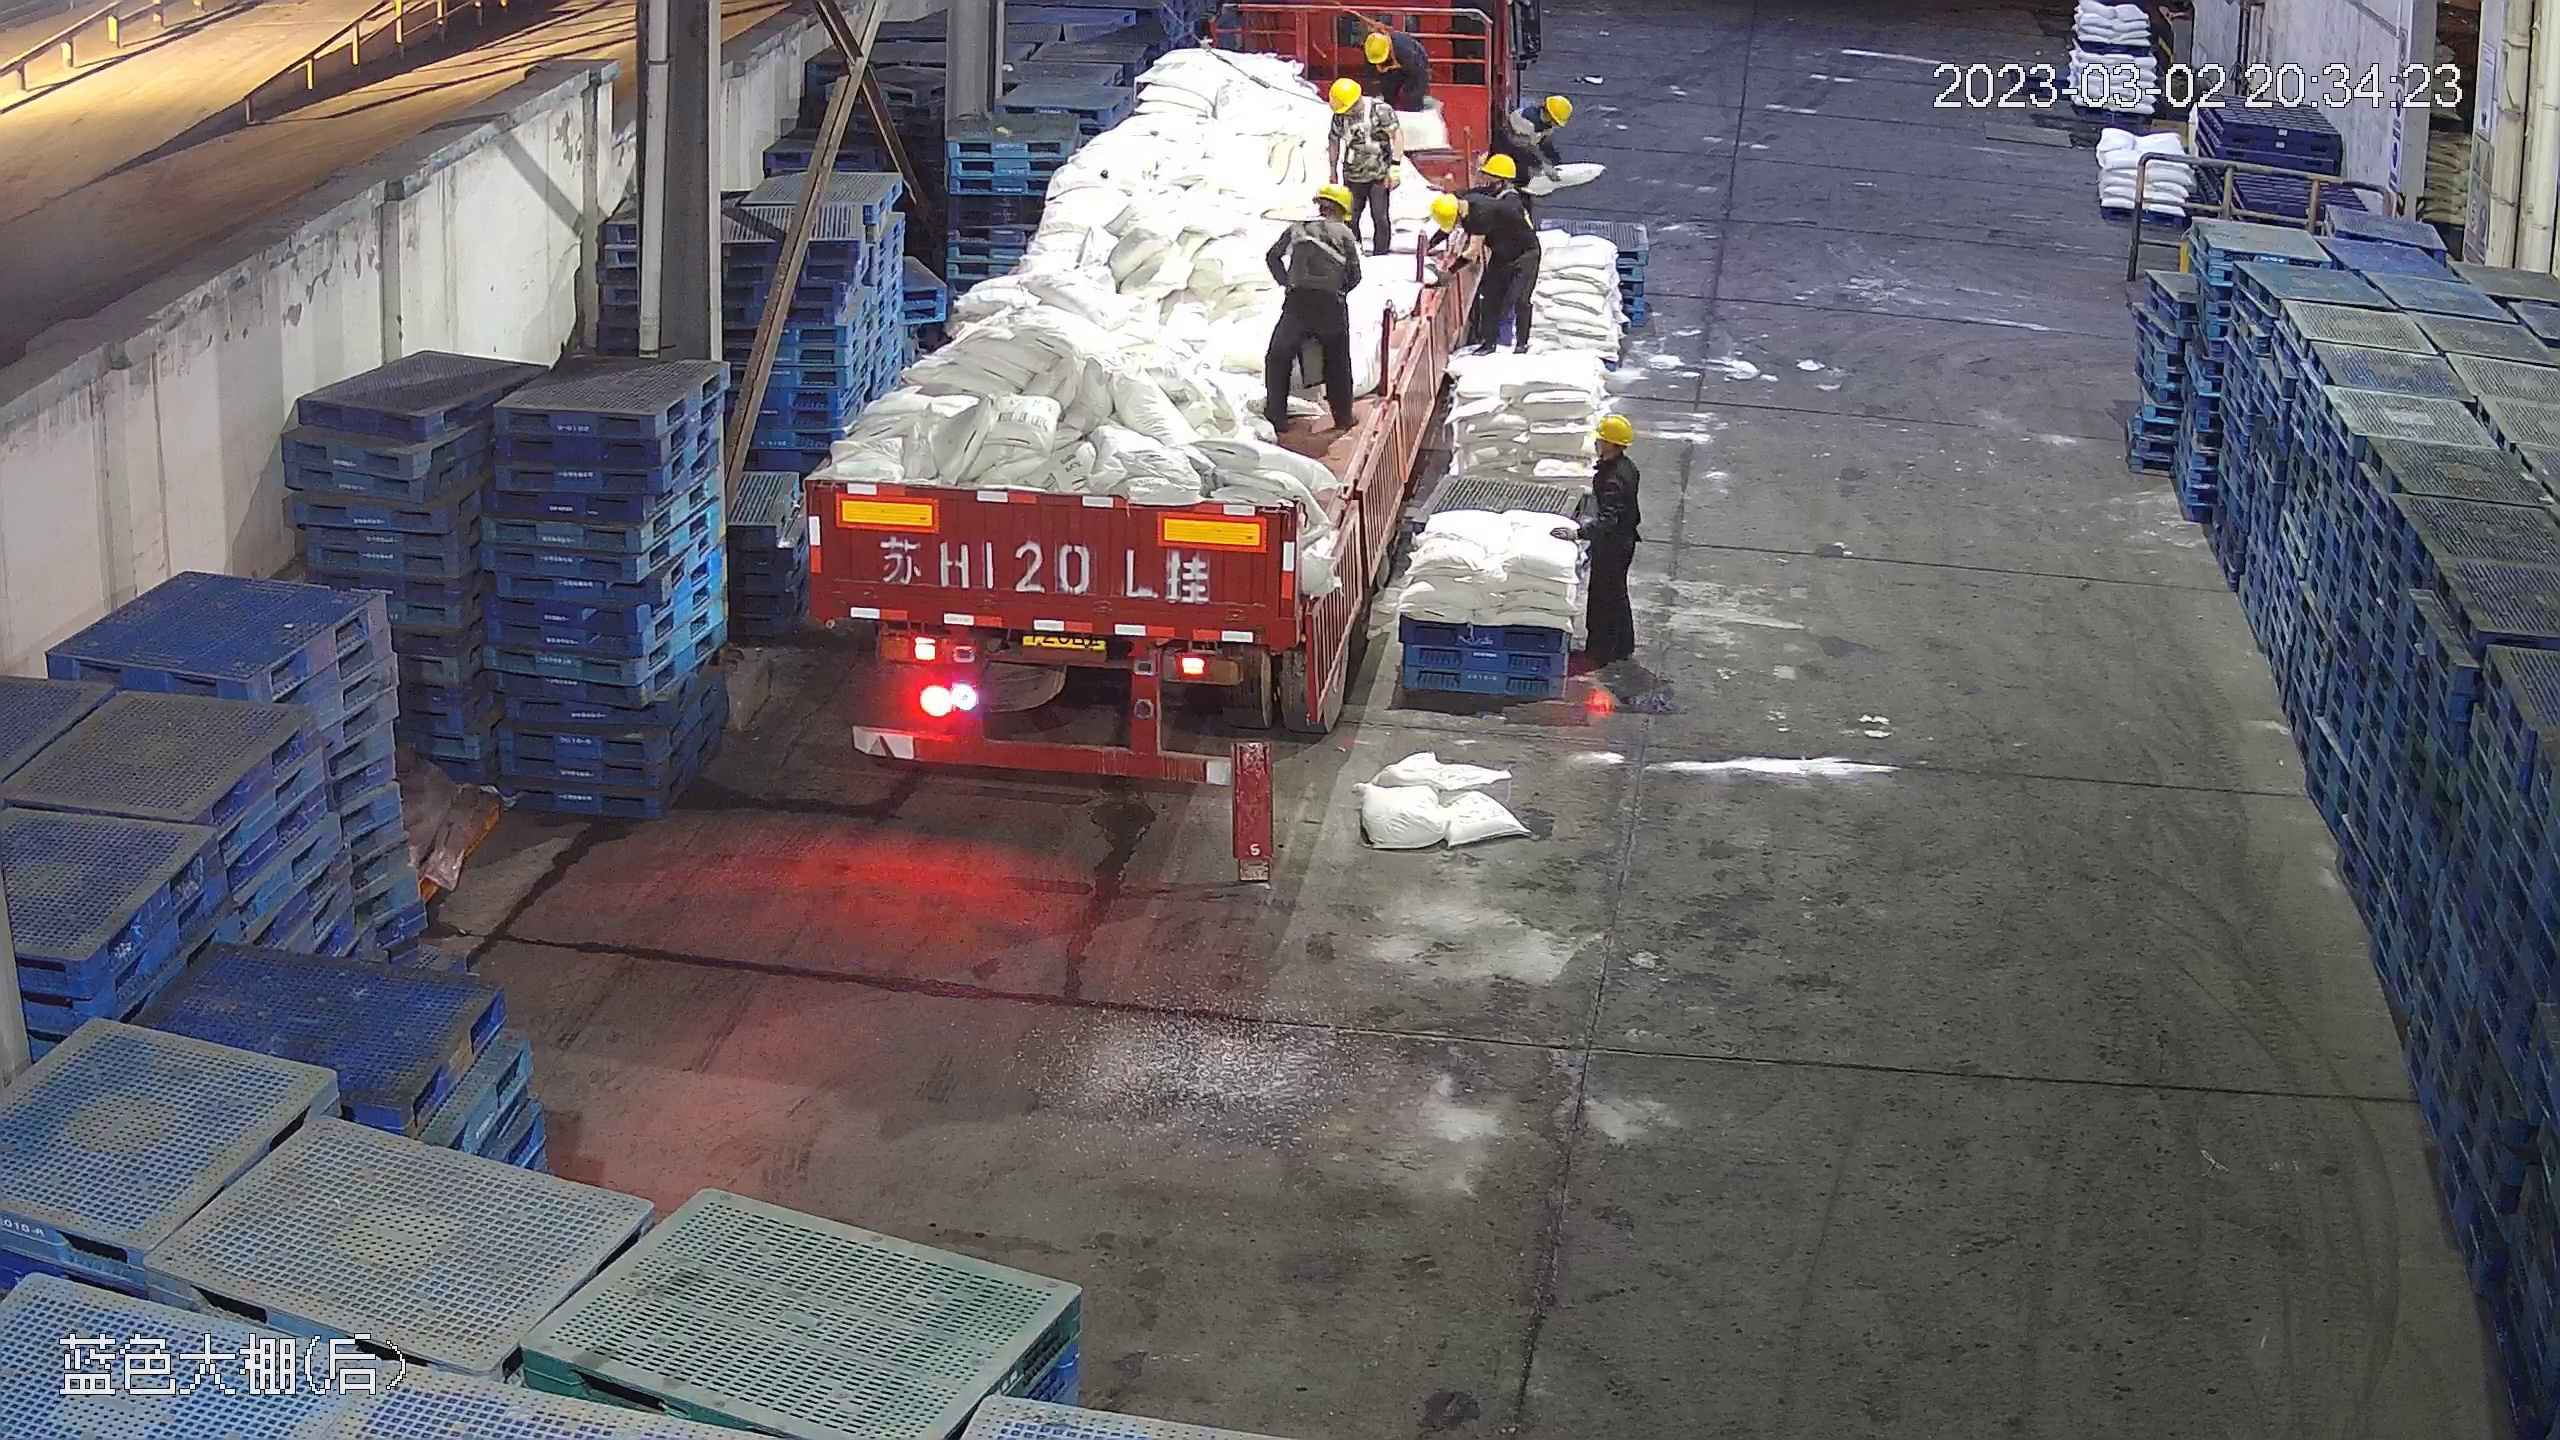belt: (1280, 214, 1347, 273), (1338, 104, 1393, 160), (1378, 51, 1402, 77), (1365, 16, 1393, 37), (1493, 186, 1516, 202)
head: (1275, 182, 1361, 266), (1579, 412, 1642, 503), (1464, 153, 1533, 230), (1324, 73, 1398, 140), (1499, 98, 1582, 150), (1360, 26, 1413, 75)
helmet: (1425, 190, 1466, 231), (1310, 181, 1354, 217), (1324, 76, 1362, 114), (1589, 413, 1635, 443), (1358, 27, 1395, 61), (1479, 152, 1515, 179), (1542, 94, 1570, 124)
people: (1256, 177, 1368, 440), (1568, 408, 1651, 702), (1445, 159, 1542, 356), (1321, 69, 1409, 267), (1366, 23, 1432, 113)
truck: (795, 14, 1468, 783)
